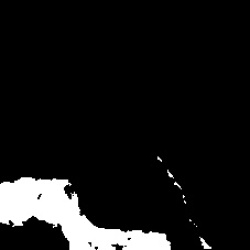crack: (1, 175, 170, 247), (154, 157, 213, 246)
